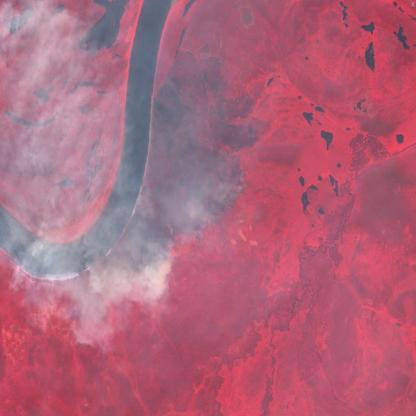fire: (148, 40, 255, 274)
